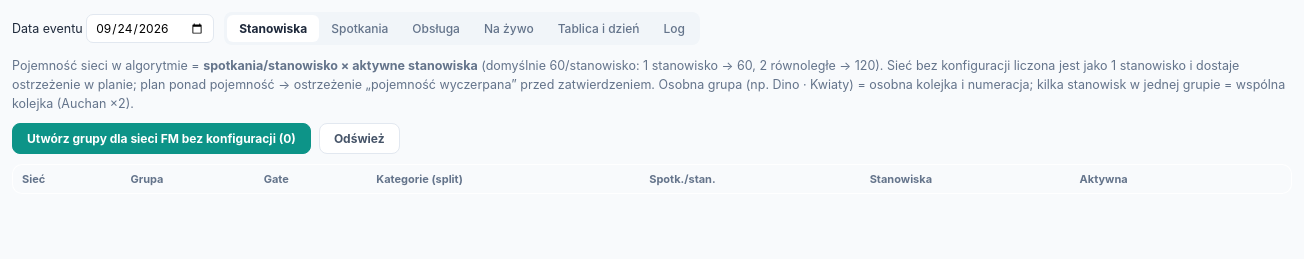
Dzień wydarzenia → Obsługa: konta obsługi › starsza odpowiedź (poprzedni dzień) nie nadpisuje nowszej
Step 1. Click the button "Obsługa" → click(436, 28), box [400,15,472,42]
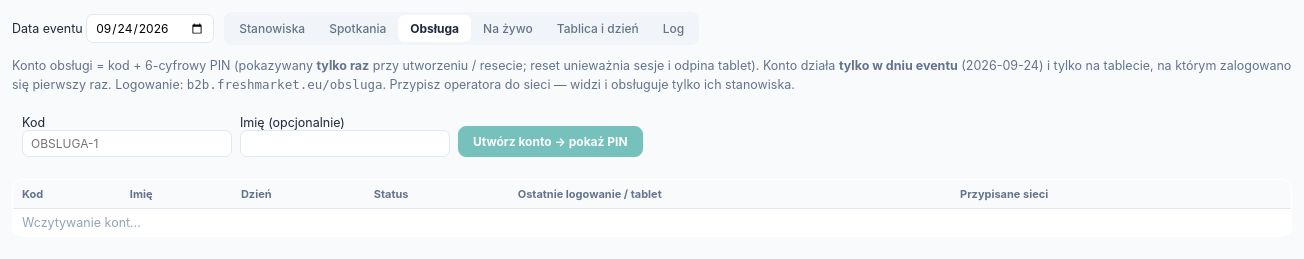
Step 2. Type "2026-09-25" into the date field labelled "Data eventu" → (150, 28), box [86,14,214,43]
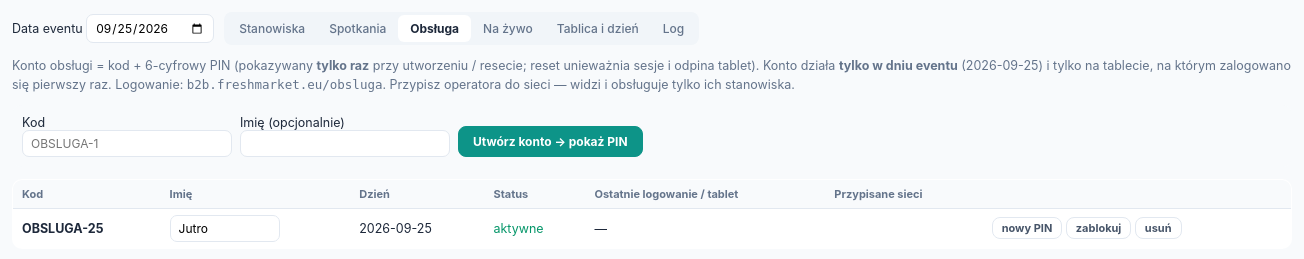
Expected: the button "nowy PIN" is enabled, [992,217,1062,239]
